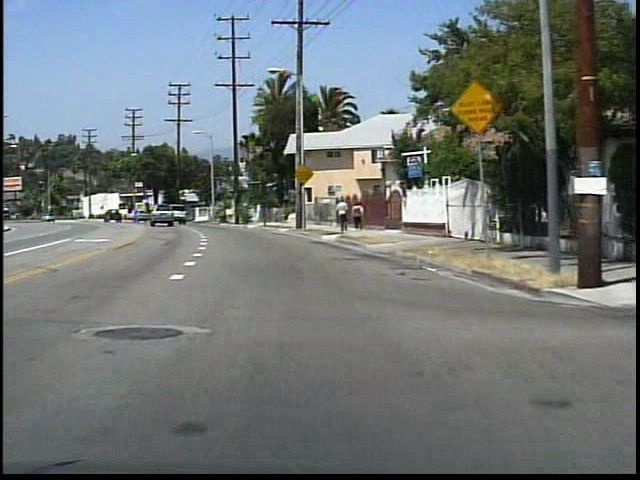person: (335, 196, 351, 236), (349, 201, 365, 233)
